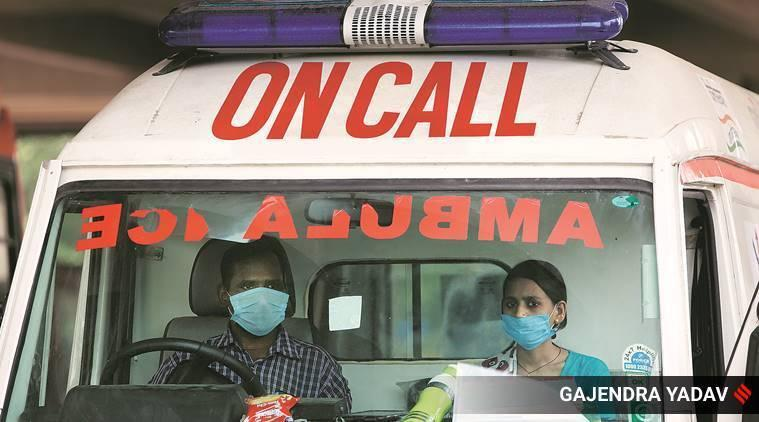Emergency-Vehicles: (17, 0, 759, 422)
